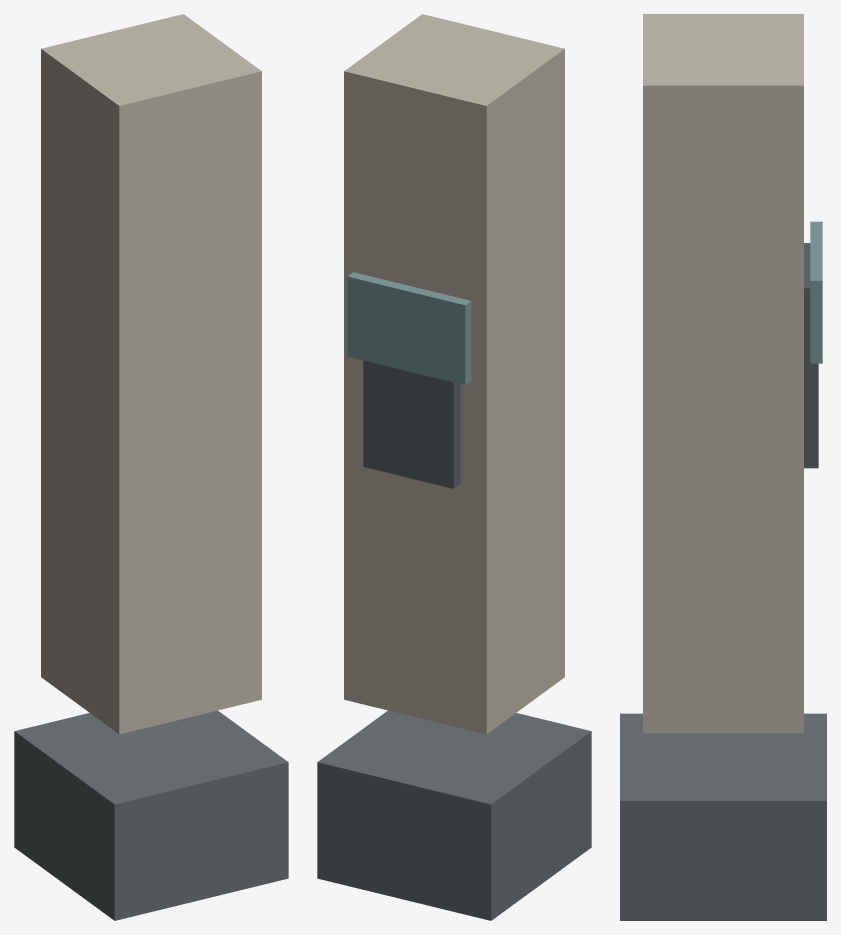
Rendered from iz3_environment_lamp_01.glb.
3 views of the same model, side by side, from view 1: azimuth 30°, elevation 25°; view 2: azimuth 150°, elevation 25°; view 3: azimuth 270°, elevation 25° (orthographic). The views are drawn at different scales.
Visible parts, largest first — view 1: cabinet, base; view 2: cabinet, base, display, panel; view 3: cabinet, base, panel, display.
Boxes of the visible parts, <box> form: cabinet: <box>41,14,261,734</box>; base: <box>14,710,288,920</box>; cabinet: <box>344,14,564,734</box>; base: <box>317,710,591,920</box>; display: <box>347,272,471,385</box>; panel: <box>363,360,460,488</box>; cabinet: <box>643,14,803,733</box>; base: <box>620,713,826,920</box>; panel: <box>804,243,818,468</box>; display: <box>810,221,822,363</box>.
Size of the model in its own units: 0.5 by 2.21 by 0.5.
